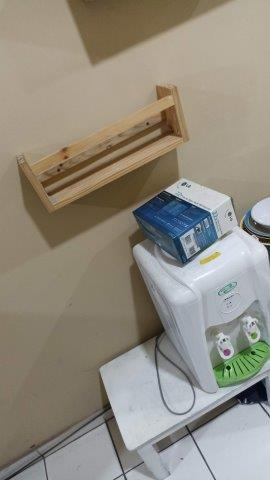kardus: (132, 178, 237, 262)
